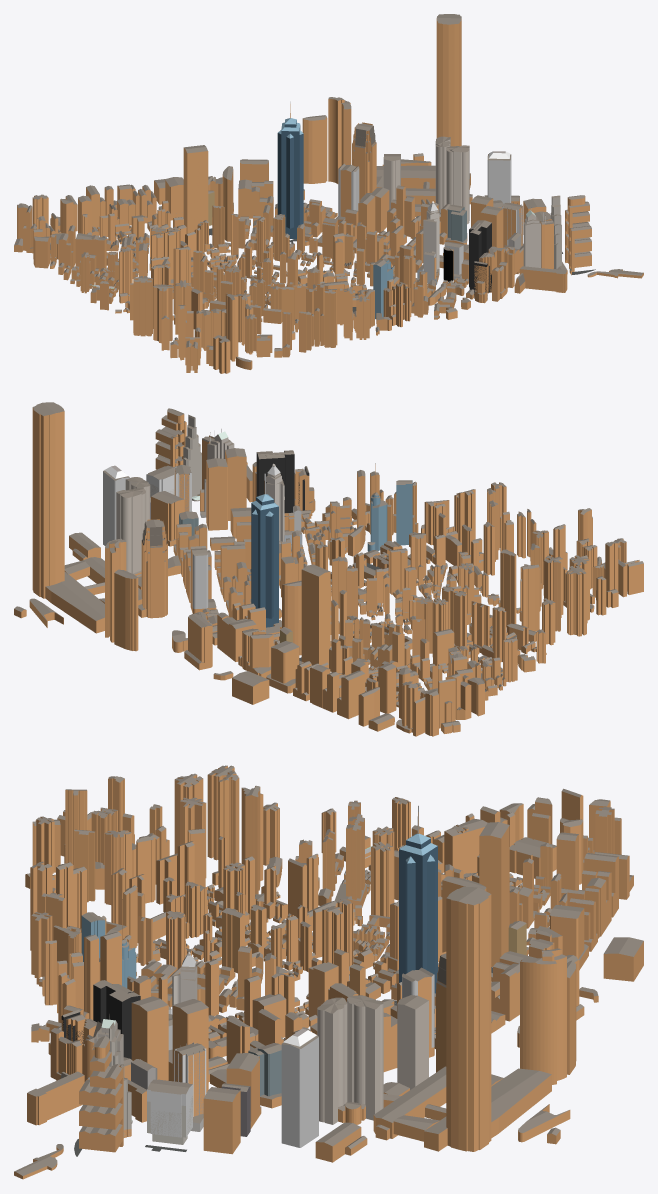
File: HK_building_plus_roads.fbx
3 views of the same model, one above another, from view 1: azimuth 30°, elevation 25°; view 2: azimuth 150°, elevation 25°; view 3: azimuth 270°, elevation 25° (orthographic). The views are drawn at different scales.
Visible parts, largest first — view 1: element.200, 國際金融中心二期 Two International Finance Centre, 交易廣場 Exchange Square, 中環中心 The Center, 中遠大廈 Cosco Tower, 滙豐總行大廈 HSBC Main Building, 國際金融中心一期 One International Finance Centre, 國際金融中心商場 International Finance Centre Mall, 怡和大廈 Jardine House, 置地廣塲中庭 LANDMARK ATRIUM, 西座 West Wing, 雍景臺1座 Robinson Place Tower 1 (+29 smaller); view 2: 國際金融中心二期 Two International Finance Centre, 中環中心 The Center, element.200, 國際金融中心商場 International Finance Centre Mall, 中遠大廈 Cosco Tower, 置地廣塲中庭 LANDMARK ATRIUM, 國際金融中心一期 One International Finance Centre, 交易廣場 Exchange Square, 滙豐總行大廈 HSBC Main Building, element.039, 雍景臺1座 Robinson Place Tower 1, 恒生銀行總行大廈 Hang Seng Bank Headquarters (+51 smaller); view 3: 國際金融中心二期 Two International Finance Centre, 交易廣場 Exchange Square, element.200, 國際金融中心商場 International Finance Centre Mall, 中環中心 The Center, 置地廣塲中庭 LANDMARK ATRIUM, 怡和大廈 Jardine House, 滙豐總行大廈 HSBC Main Building, 中遠大廈 Cosco Tower, 置地太子 LANDMARK PRINCE'S, element.033, 西座 West Wing (+81 smaller).
Boxes of the visible parts, x1,y1,x2,y2 form: element.200: (302, 97, 351, 183); 國際金融中心二期 Two International Finance Centre: (436, 14, 461, 146); 交易廣場 Exchange Square: (383, 136, 469, 224); 中環中心 The Center: (277, 101, 303, 238); 中遠大廈 Cosco Tower: (183, 145, 208, 233); 滙豐總行大廈 HSBC Main Building: (565, 195, 591, 271); 國際金融中心一期 One International Finance Centre: (352, 122, 376, 200); 國際金融中心商場 International Finance Centre Mall: (376, 165, 470, 200); 怡和大廈 Jardine House: (487, 151, 511, 203); 置地廣塲中庭 LANDMARK ATRIUM: (471, 195, 519, 274); 西座 West Wing: (514, 266, 567, 293); 雍景臺1座 Robinson Place Tower 1: (133, 276, 152, 336); 國際金融中心二期 Two International Finance Centre: (32, 402, 64, 598); 中環中心 The Center: (251, 473, 278, 627); element.200: (105, 538, 138, 651); 國際金融中心商場 International Finance Centre Mall: (45, 557, 142, 633); 中遠大廈 Cosco Tower: (301, 564, 330, 665); 置地廣塲中庭 LANDMARK ATRIUM: (206, 448, 246, 530); 國際金融中心一期 One International Finance Centre: (141, 519, 167, 618); 交易廣場 Exchange Square: (116, 477, 150, 573); 滙豐總行大廈 HSBC Main Building: (155, 408, 186, 469); element.039: (256, 450, 294, 512); 雍景臺1座 Robinson Place Tower 1: (567, 566, 586, 636); 恒生銀行總行大廈 Hang Seng Bank Headquarters: (190, 546, 216, 613); 國際金融中心二期 Two International Finance Centre: (446, 886, 491, 1151); 交易廣場 Exchange Square: (317, 995, 428, 1124); element.200: (520, 948, 576, 1084); 國際金融中心商場 International Finance Centre Mall: (373, 1066, 551, 1151); 中環中心 The Center: (399, 805, 437, 993); 置地廣塲中庭 LANDMARK ATRIUM: (123, 996, 208, 1092); 怡和大廈 Jardine House: (281, 1028, 318, 1147); 滙豐總行大廈 HSBC Main Building: (79, 1036, 123, 1152); 中遠大廈 Cosco Tower: (479, 822, 509, 966); 置地太子 LANDMARK PRINCE'S: (147, 1079, 192, 1144); element.033: (203, 1087, 240, 1154); 西座 West Wing: (27, 1071, 84, 1125).
Bounding box in the file's own units: 120339 × 41580 × 95632.
